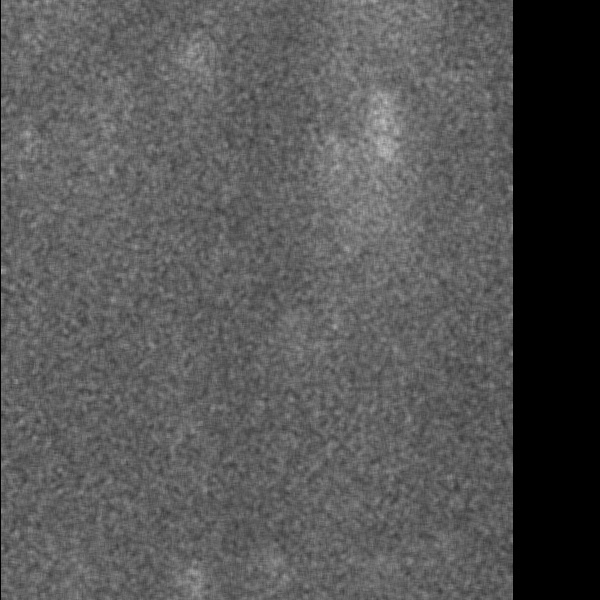spark: (359, 86, 402, 224), (179, 29, 202, 95), (178, 555, 205, 594)
